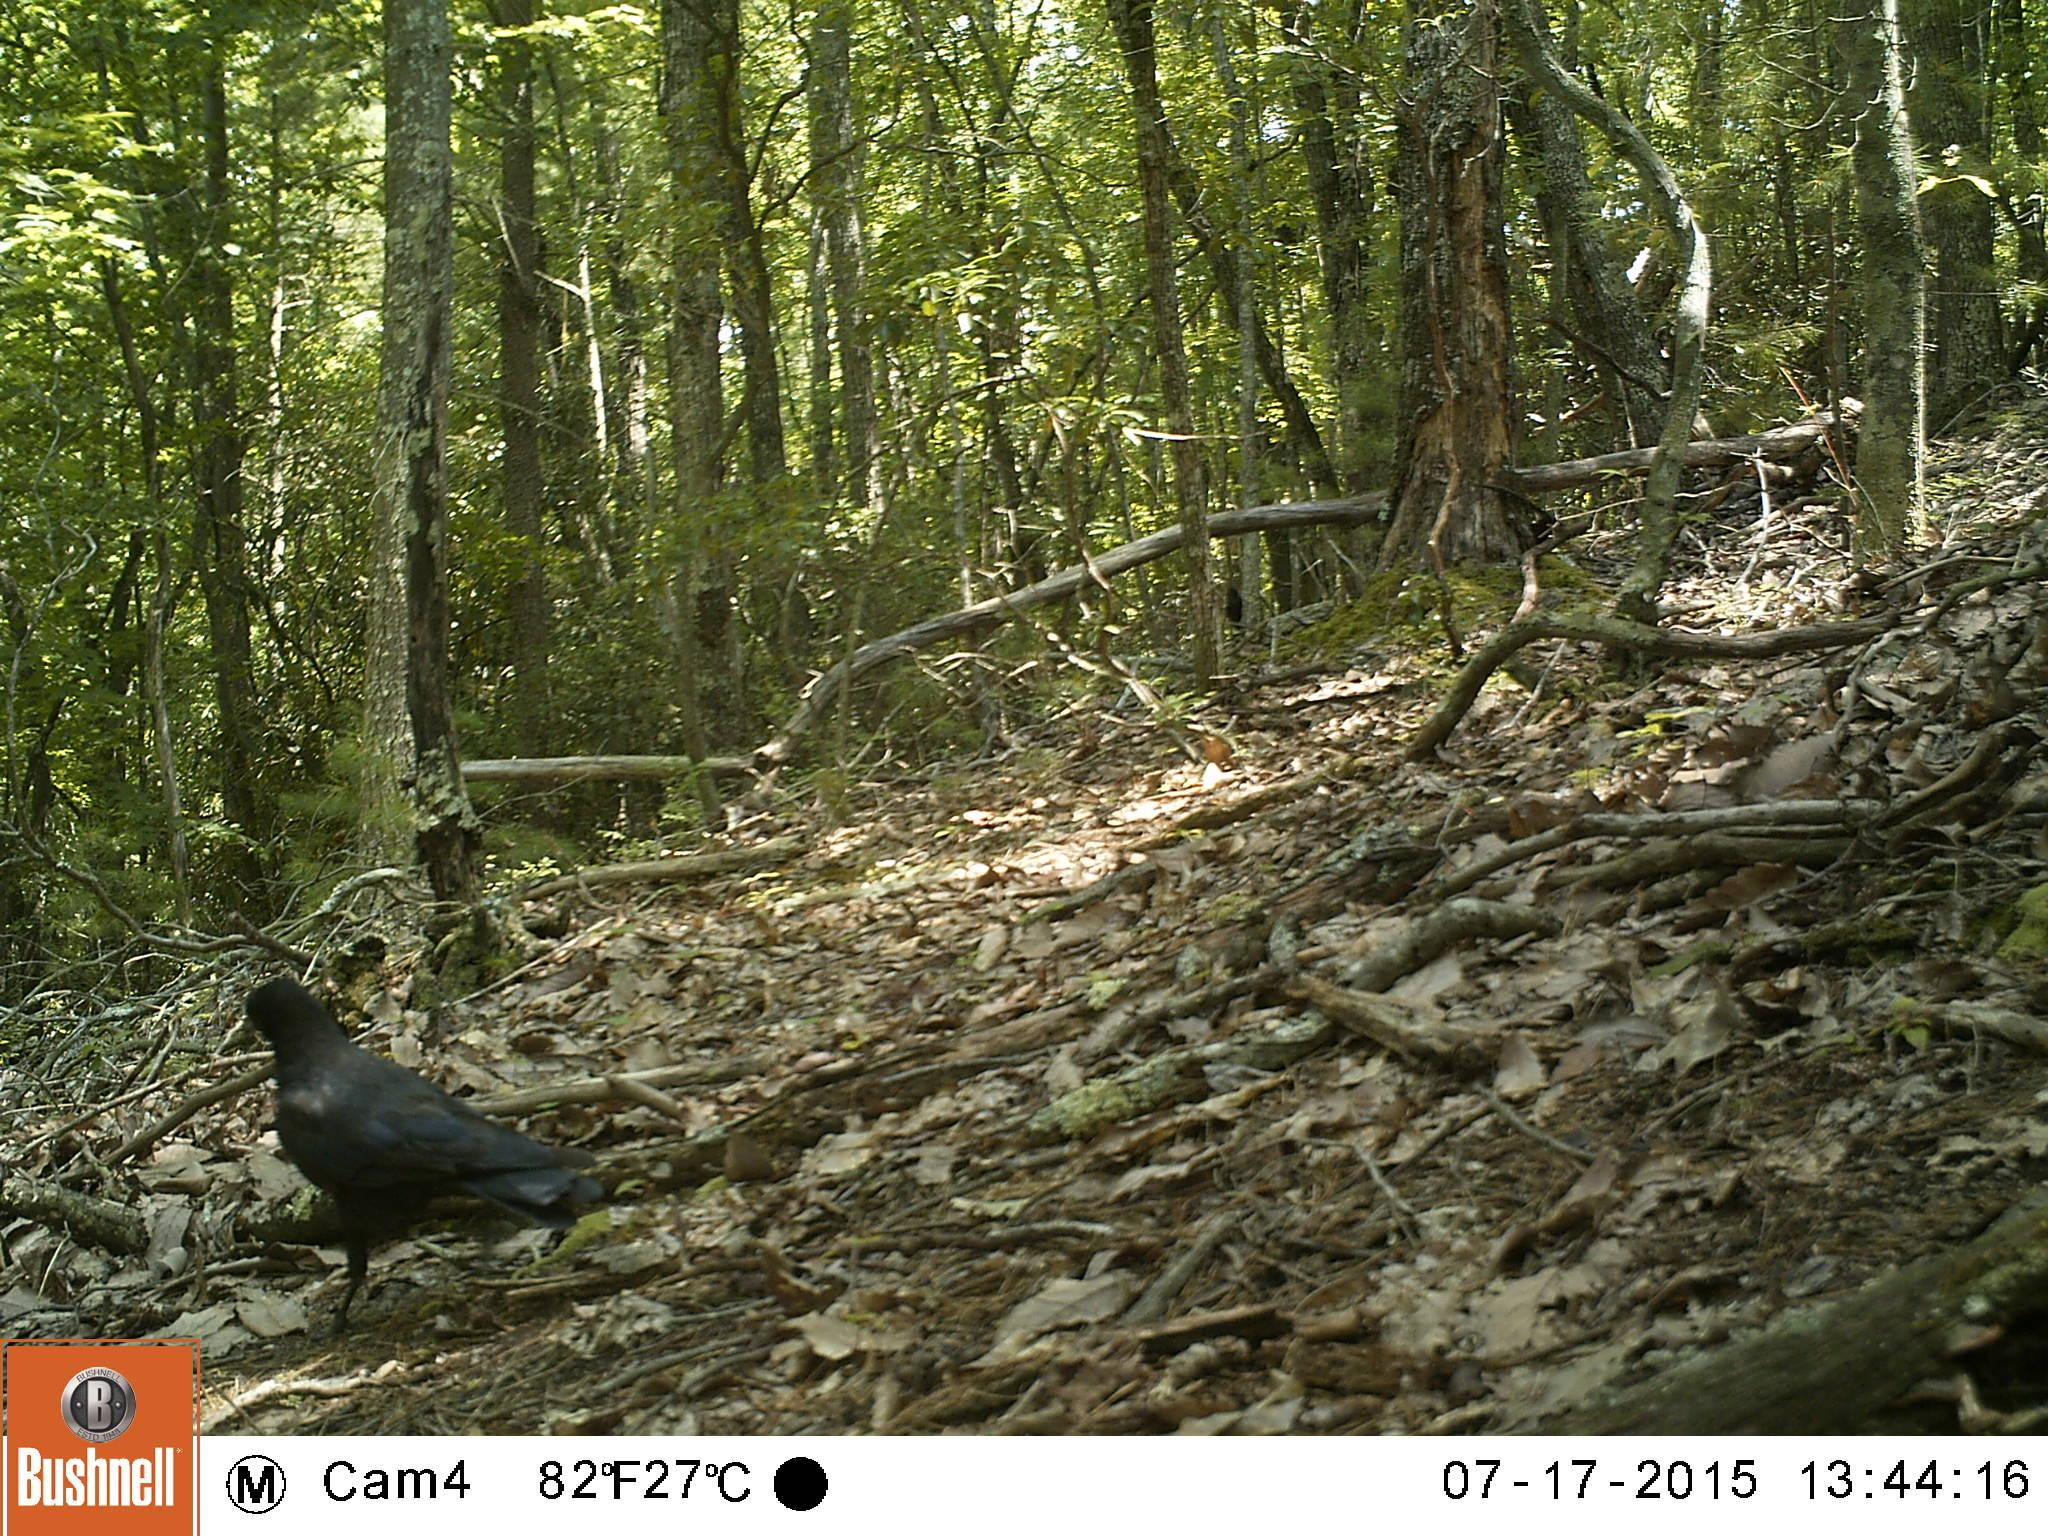Animal: (242, 973, 590, 1329)
